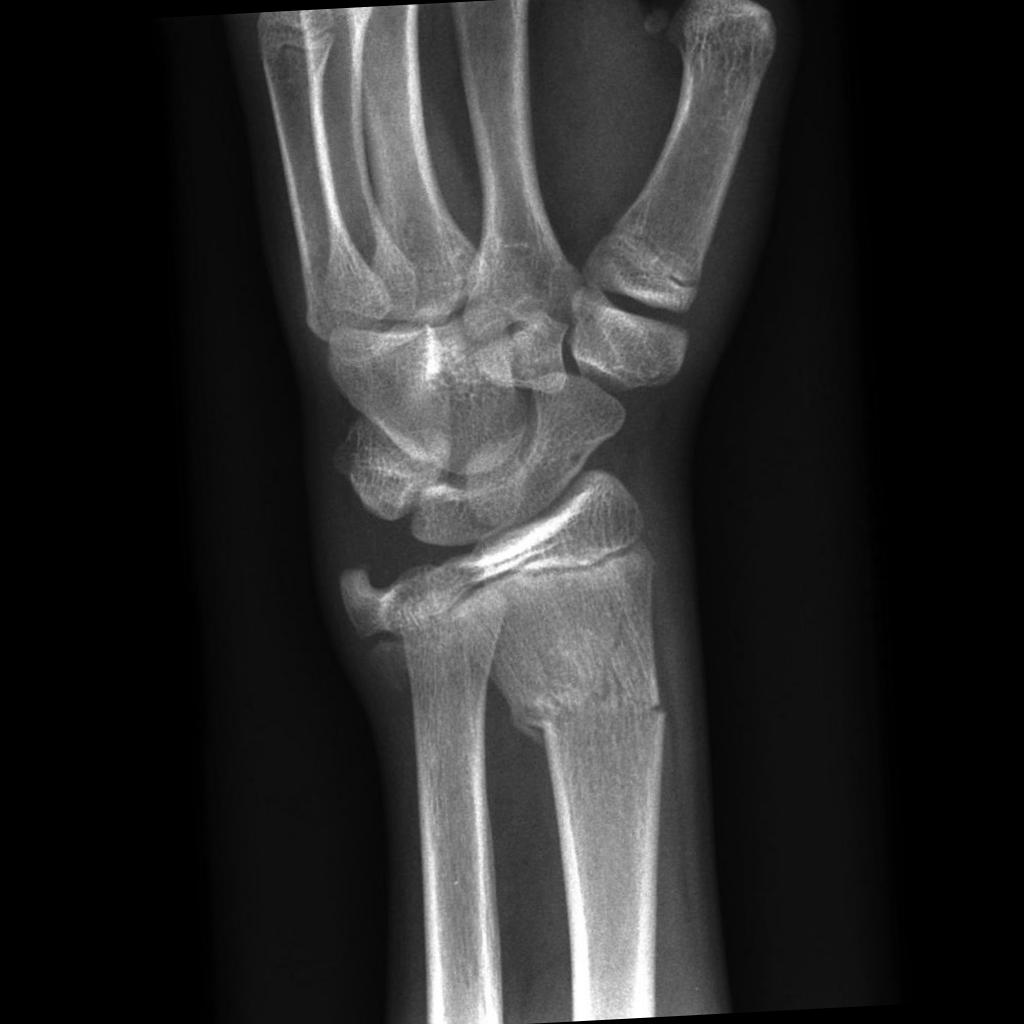angle: (514, 690, 666, 742)
line: (596, 611, 636, 710)
